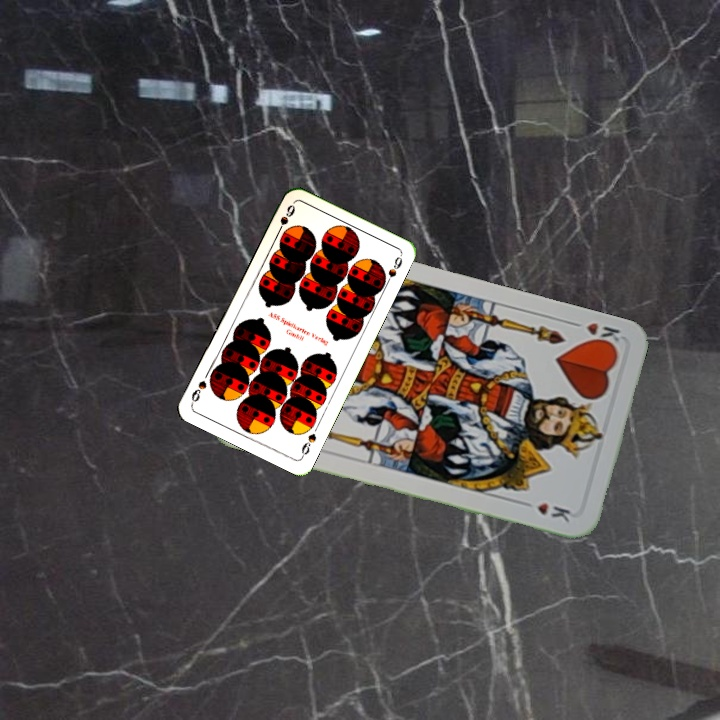HK: (566, 317, 624, 351)
S9: (272, 201, 298, 238), (297, 429, 319, 460)
